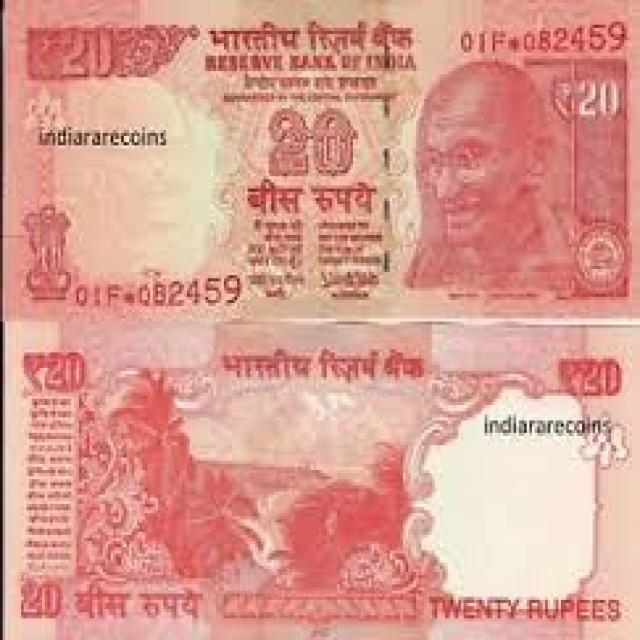20rs: (2, 318, 640, 639), (2, 1, 640, 319)
